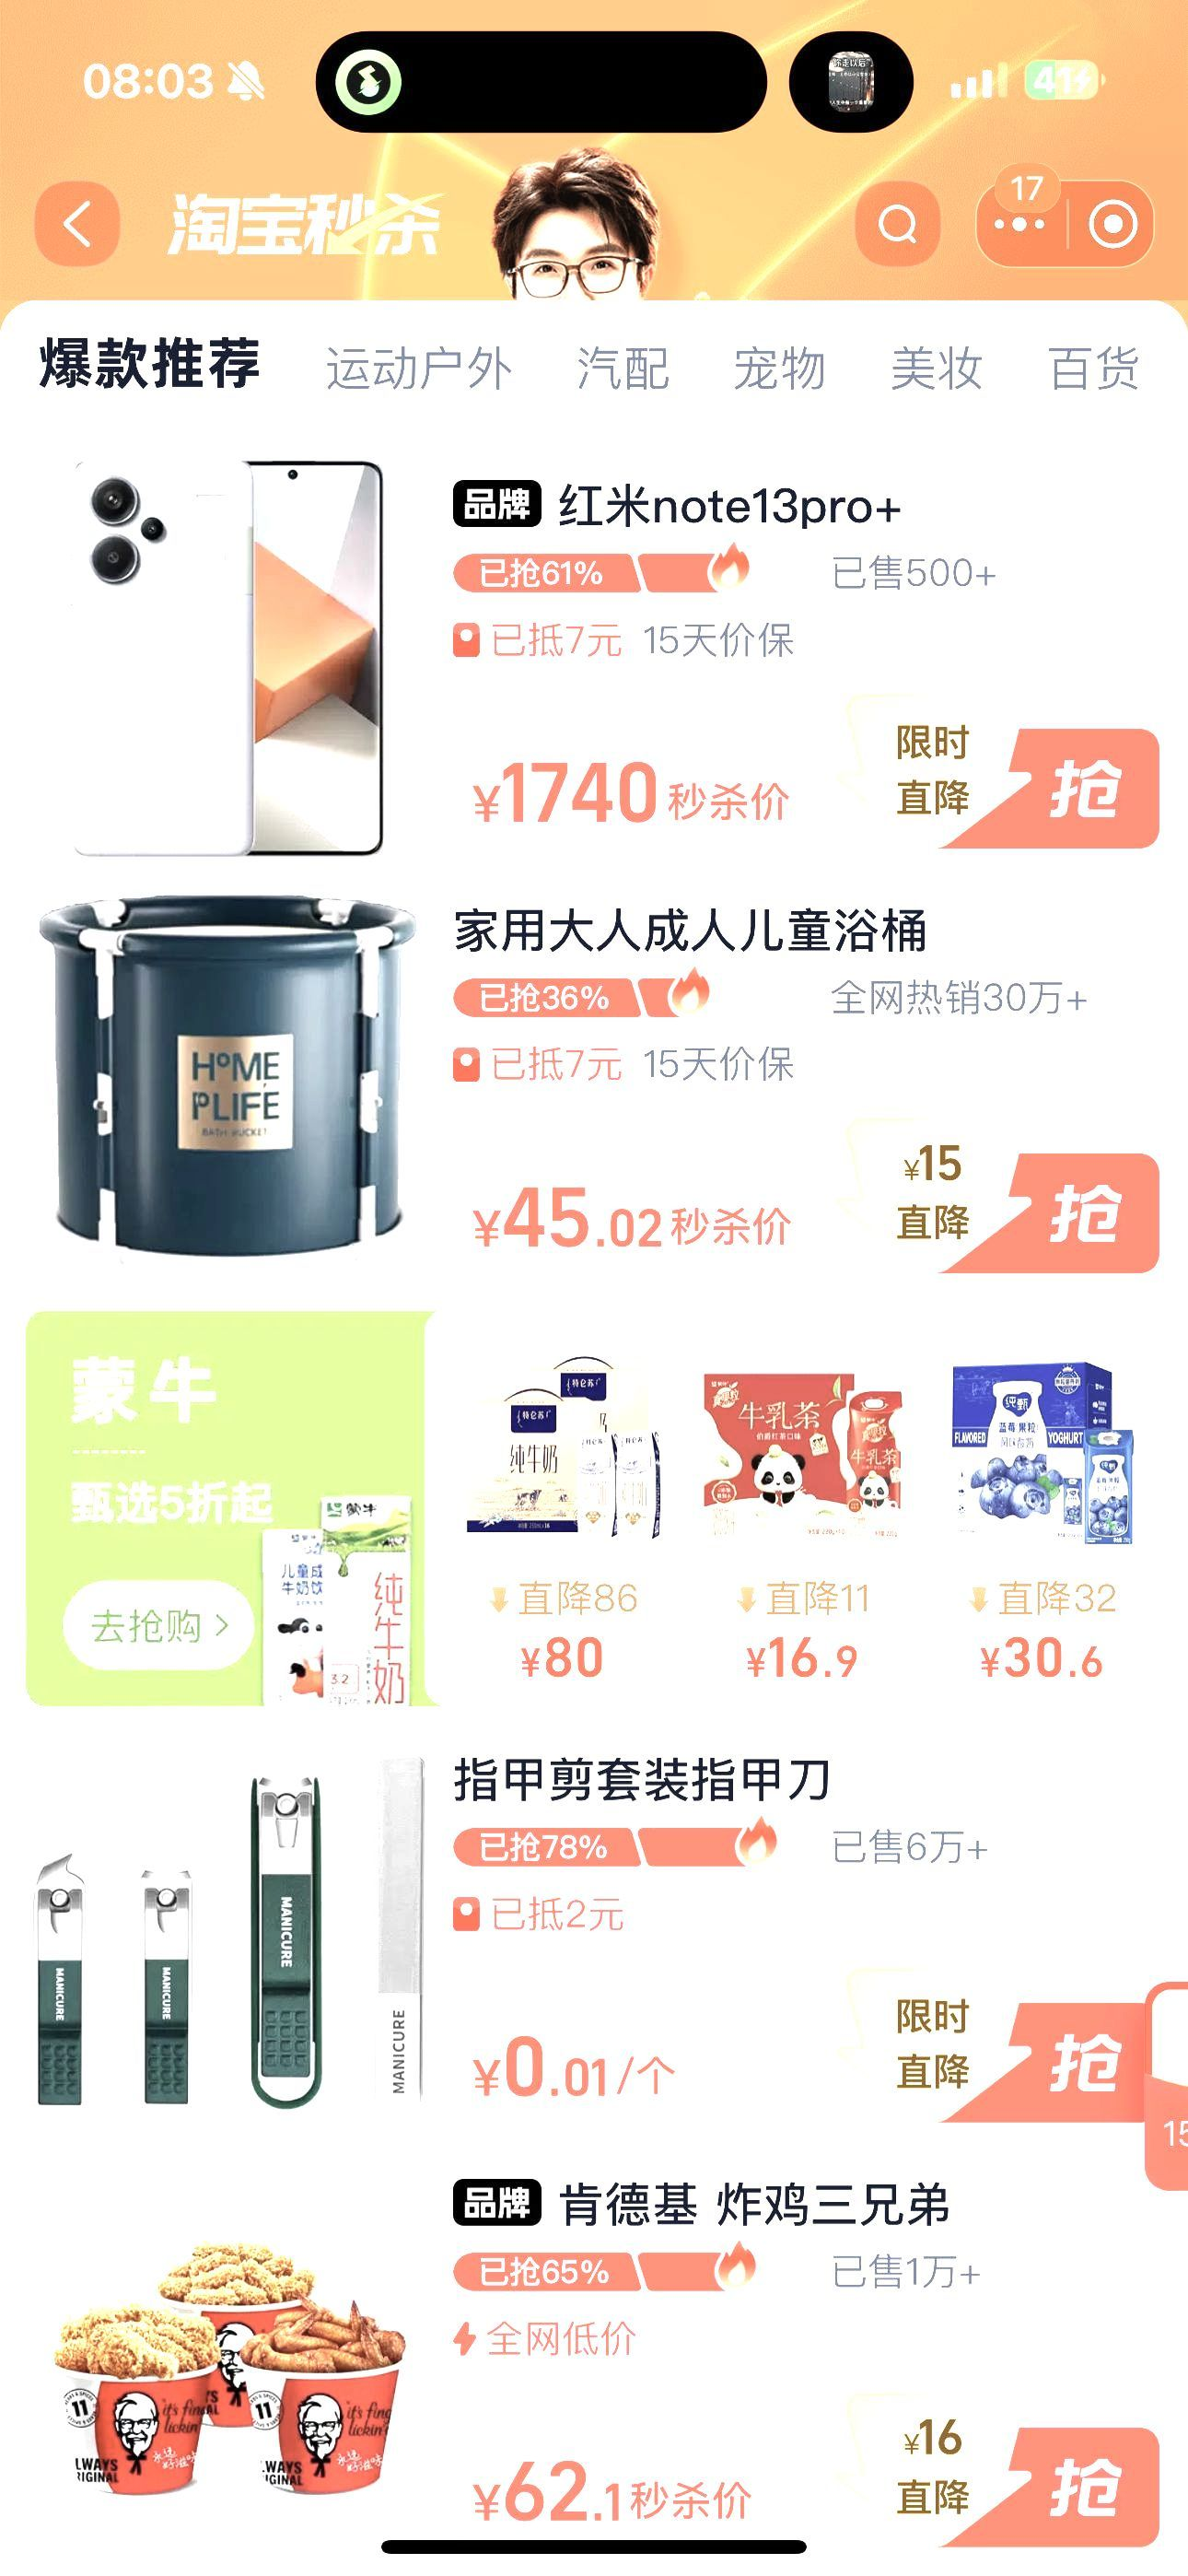banner: (2, 1278, 1183, 1750)
item: (7, 419, 1188, 887), (13, 1755, 1185, 2180), (7, 884, 1181, 1281)
op_bar: (13, 156, 1181, 289)
